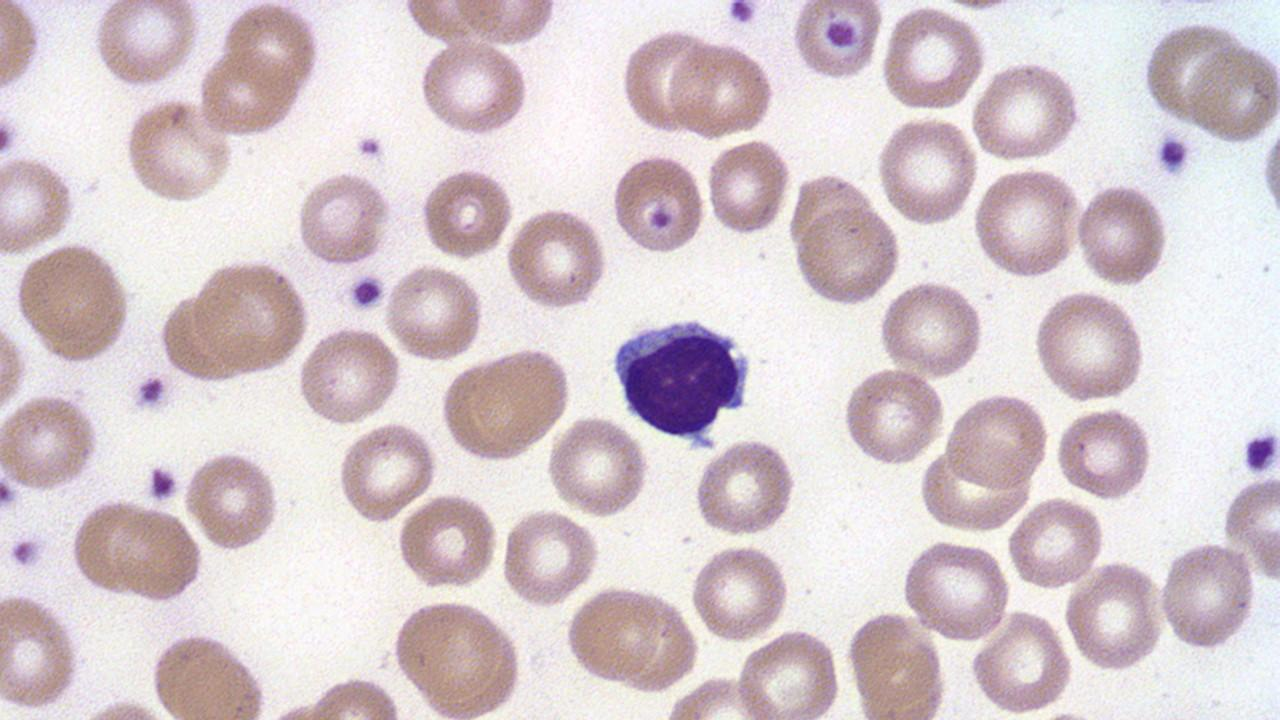Platelets: (1238, 422, 1280, 477), (1153, 130, 1193, 180), (347, 270, 387, 315), (5, 532, 48, 572), (132, 370, 172, 413), (144, 460, 181, 506), (724, 0, 763, 28), (352, 131, 386, 162)
RBC: (386, 594, 525, 714), (437, 344, 575, 462), (14, 240, 134, 366), (188, 256, 311, 375), (1031, 288, 1149, 404), (972, 164, 1085, 281), (565, 584, 691, 688), (121, 95, 235, 204), (897, 537, 1013, 642), (970, 58, 1085, 163), (874, 114, 979, 228), (880, 3, 989, 112), (416, 39, 534, 139), (1137, 16, 1245, 124), (1060, 564, 1166, 674), (503, 205, 608, 313), (544, 414, 652, 519), (791, 206, 902, 308), (969, 608, 1074, 715), (878, 276, 986, 380), (838, 366, 948, 468), (666, 39, 778, 139), (1158, 540, 1258, 652), (147, 628, 270, 718), (297, 324, 404, 427), (690, 436, 798, 538), (1073, 179, 1171, 290), (335, 420, 439, 524), (846, 609, 946, 716), (688, 541, 792, 642), (180, 448, 281, 552), (382, 263, 488, 362), (944, 391, 1052, 488), (608, 152, 708, 256), (395, 491, 500, 590), (88, 1, 203, 91), (498, 506, 600, 607), (0, 392, 103, 492), (292, 169, 396, 267), (0, 588, 82, 712), (617, 27, 711, 135), (734, 626, 844, 718), (1052, 404, 1154, 502), (1183, 42, 1280, 145), (68, 497, 164, 600), (219, 2, 323, 97), (195, 46, 302, 138), (416, 164, 516, 262), (1006, 494, 1107, 590), (112, 507, 206, 605), (704, 136, 792, 239), (0, 154, 80, 254), (788, 1, 884, 84), (1220, 473, 1280, 583), (447, 2, 562, 46), (398, 2, 510, 43), (0, 3, 46, 98), (0, 308, 28, 422), (1258, 115, 1280, 234)
WBC: (606, 310, 758, 440)
